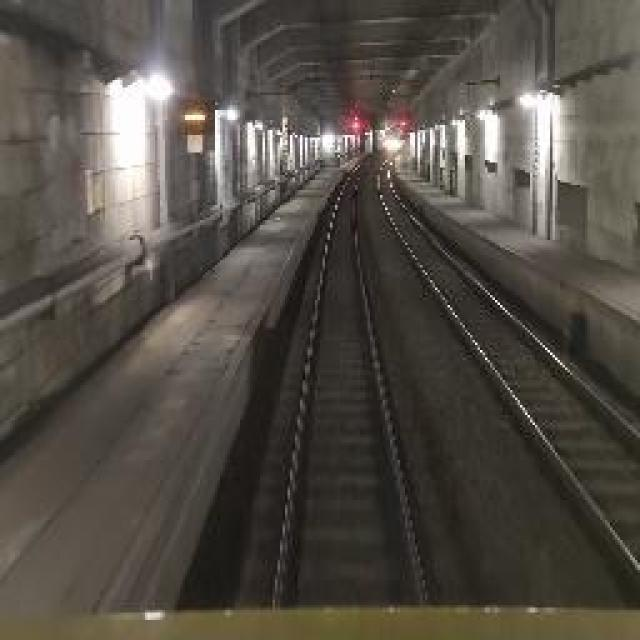rail: (236, 147, 458, 609)
